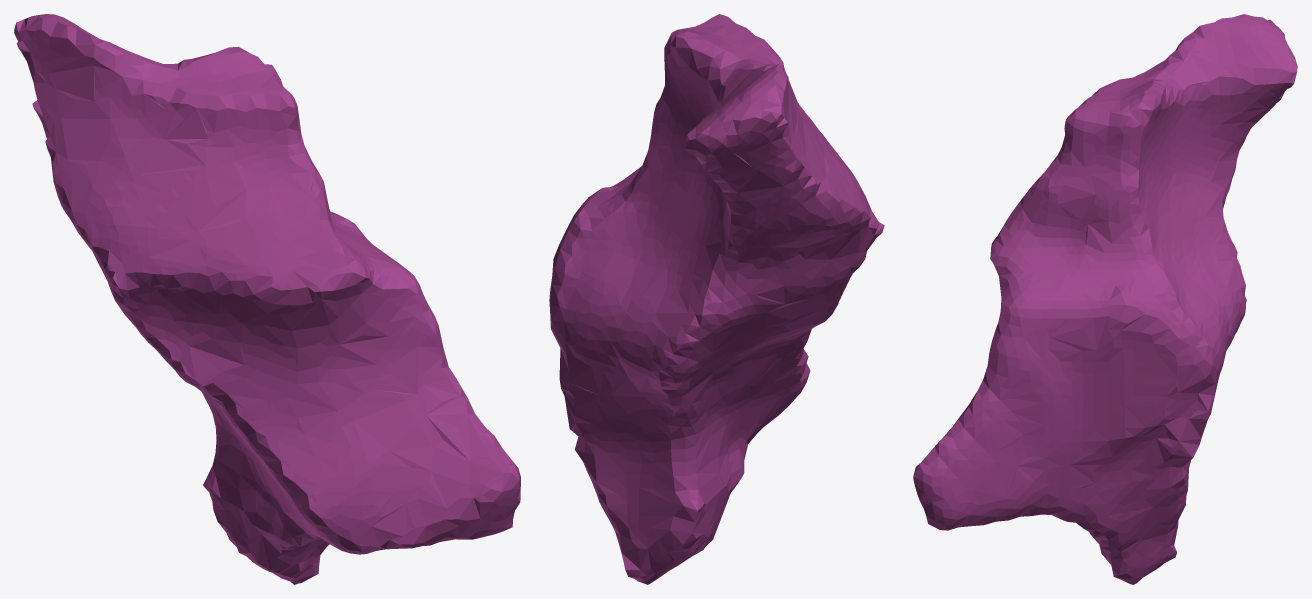
Rendered from Model_10092_LH__Granular_insular_cortex_(GI).obj.
3 views of the same model, side by side, from view 1: azimuth 30°, elevation 25°; view 2: azimuth 150°, elevation 25°; view 3: azimuth 270°, elevation 25° (orthographic). The views are drawn at different scales.
Size of the model in its own units: 2.58 by 4.34 by 3.08.
